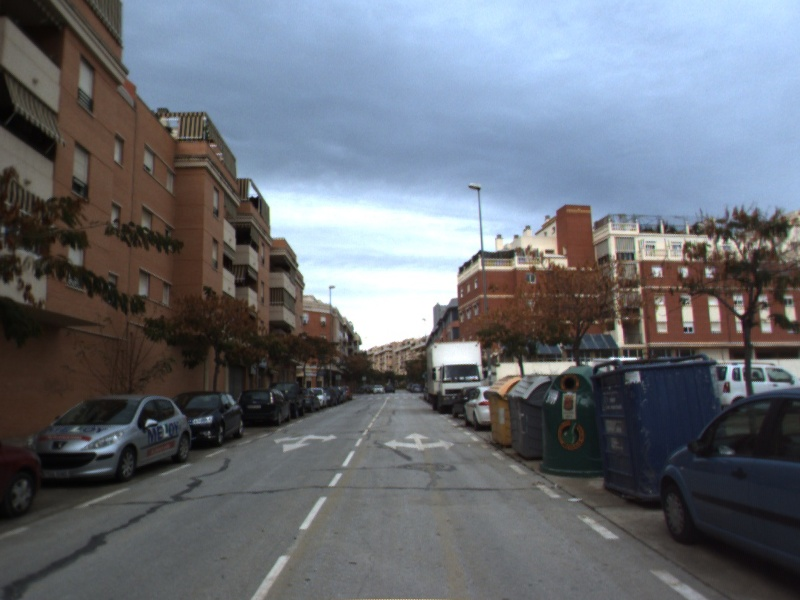STRAIGHT_LEFT_RIGHT: (381, 430, 457, 452)
